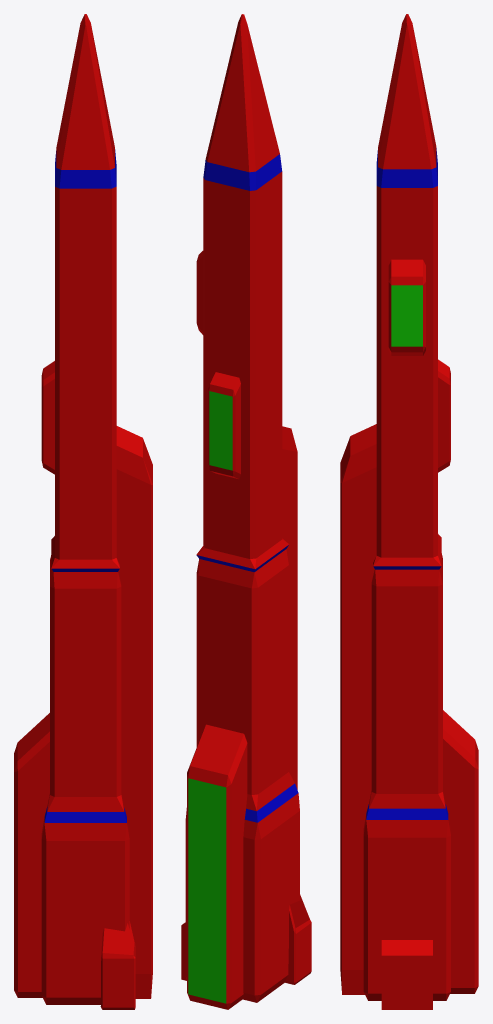
File: Skyscraper(100).fbx
3 renders of one model, left to right at view 1: azimuth 90°, elevation 25°; view 2: azimuth 150°, elevation 25°; view 3: azimuth 270°, elevation 25°, orthographic.
Visible parts, largest first — view 1: Cube.006; view 2: Cube.006; view 3: Cube.006.
Boxes of the visible parts, box(x1,y1,x2,y2) form: Cube.006: box(14, 14, 152, 1009); Cube.006: box(181, 14, 311, 1009); Cube.006: box(340, 14, 478, 1009).
Size of the model in its own units: 10.18 by 100 by 12.95.
